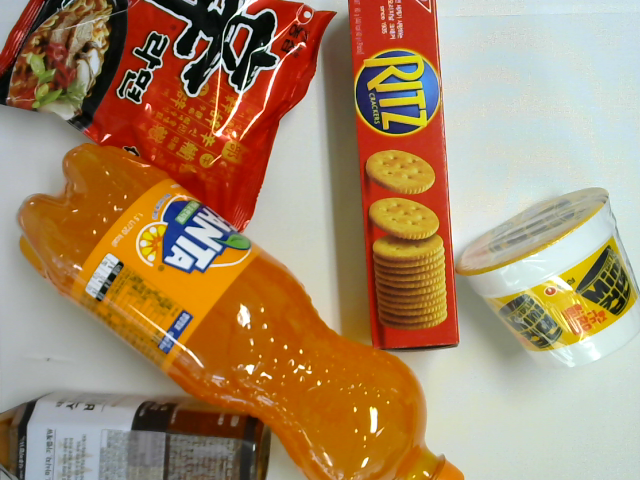Hejangmini: (455, 187, 640, 367)
Hwanta_Orange_1.5L: (17, 145, 467, 480)
Post-meal_recipe_W_tea_500ml: (1, 389, 271, 479)
Ritz_Cracker: (345, 1, 460, 356)
Sinramen: (1, 1, 337, 234)
